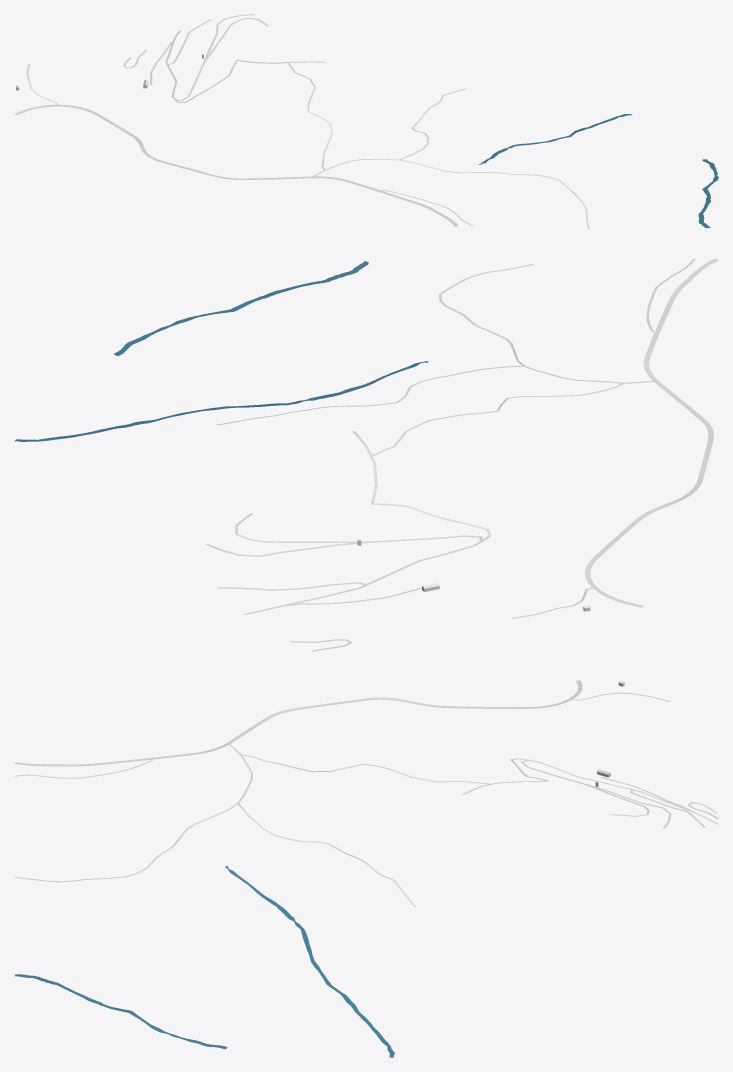
The model's file is objekty.glb.
The picture shows the model from 3 angles, top to bottom: view 1: azimuth 30°, elevation 25°; view 2: azimuth 150°, elevation 25°; view 3: azimuth 270°, elevation 25°; orthographic projection. The views are drawn at different scales.
Visible parts, largest first — view 1: Cesty_09_04, Voda_09_04; view 2: Cesty_09_04, Voda_09_04; view 3: Cesty_09_04, Voda_09_04.
Boxes of the visible parts, x1,y1,x2,y2 form: Cesty_09_04: (14,14,589,229); Voda_09_04: (478,114,718,228); Cesty_09_04: (206,258,718,651); Voda_09_04: (14,261,428,441); Cesty_09_04: (14,680,718,906); Voda_09_04: (15,866,394,1057).
Size of the model in its own units: 1007 by 173 by 1005.
